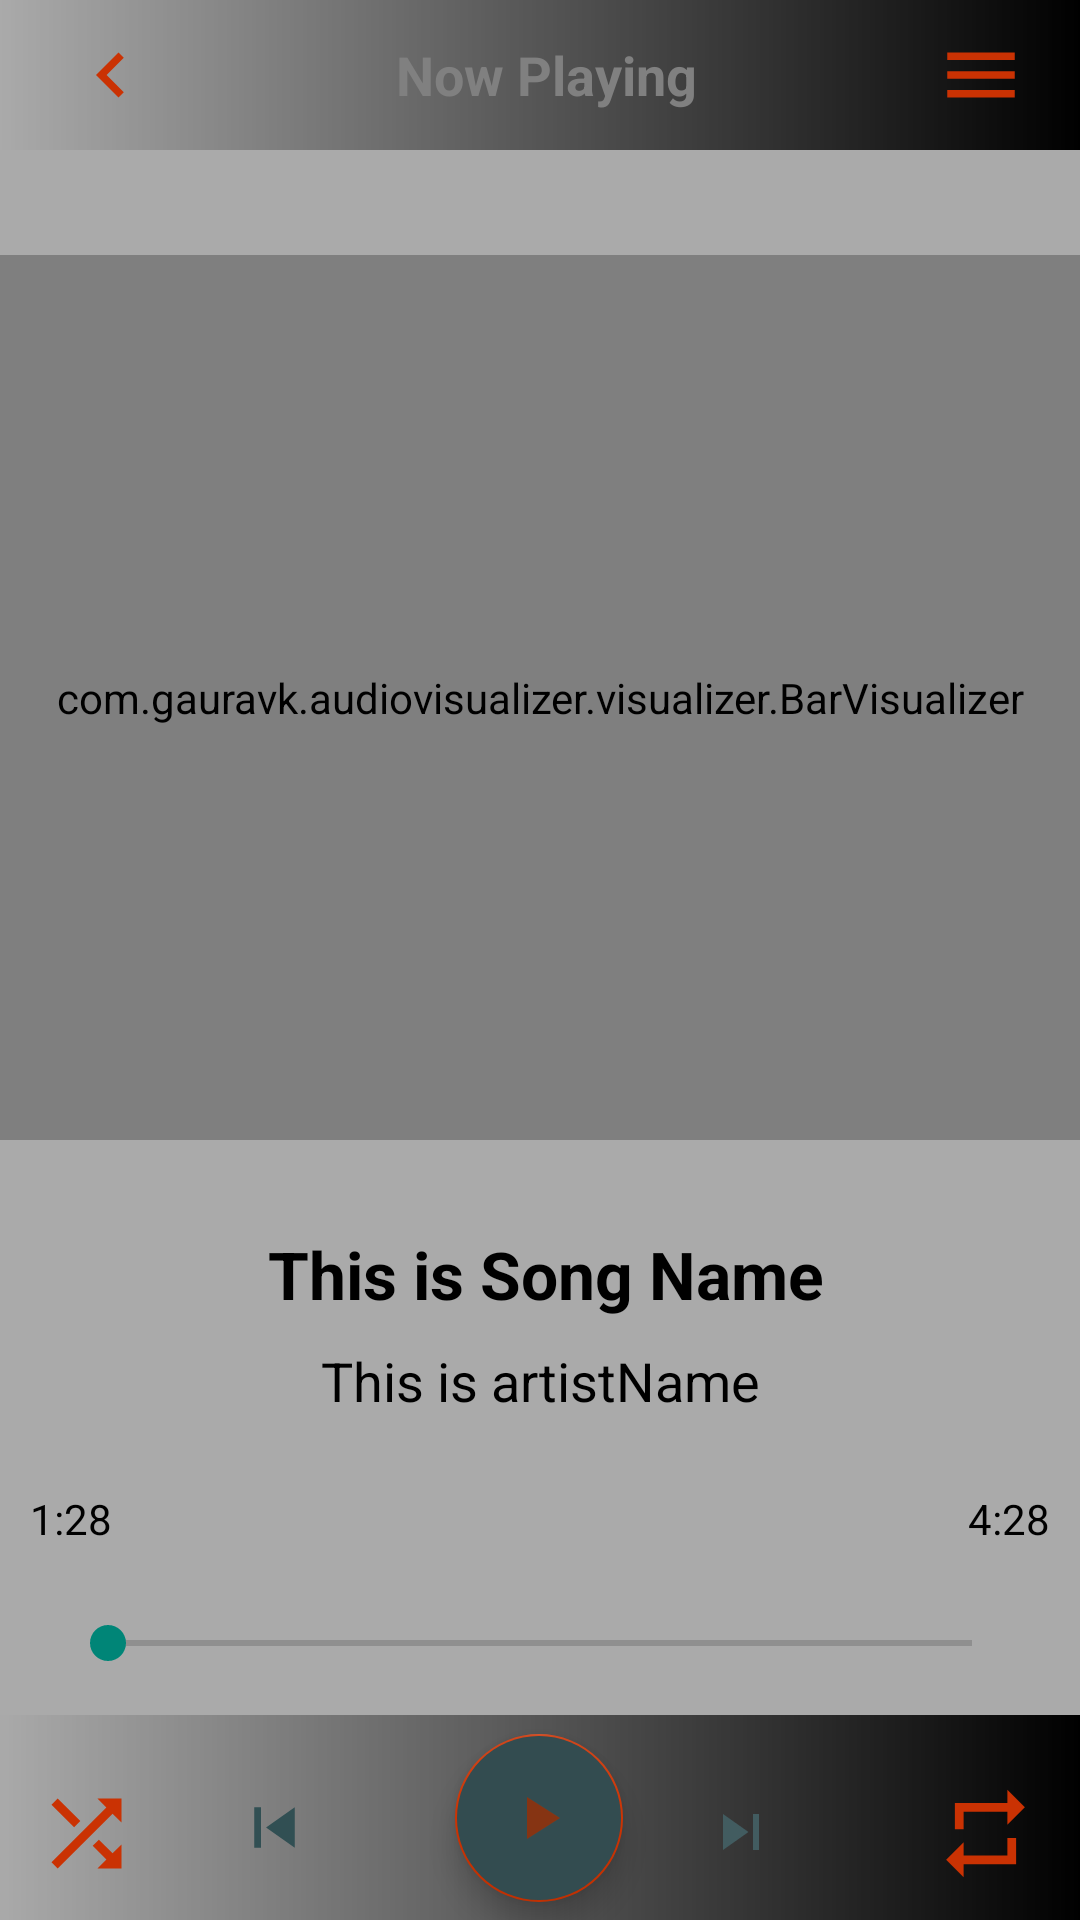

Where to tap for icons on this 1080×1920 app screen, as (x=x, y=y):
chevron left: (x=110, y=75)
menu: (x=981, y=75)
play arrow: (x=539, y=1818)
repeat: (x=985, y=1833)
shuffle off: (x=86, y=1833)
skip next: (x=741, y=1832)
skip previous: (x=274, y=1827)
